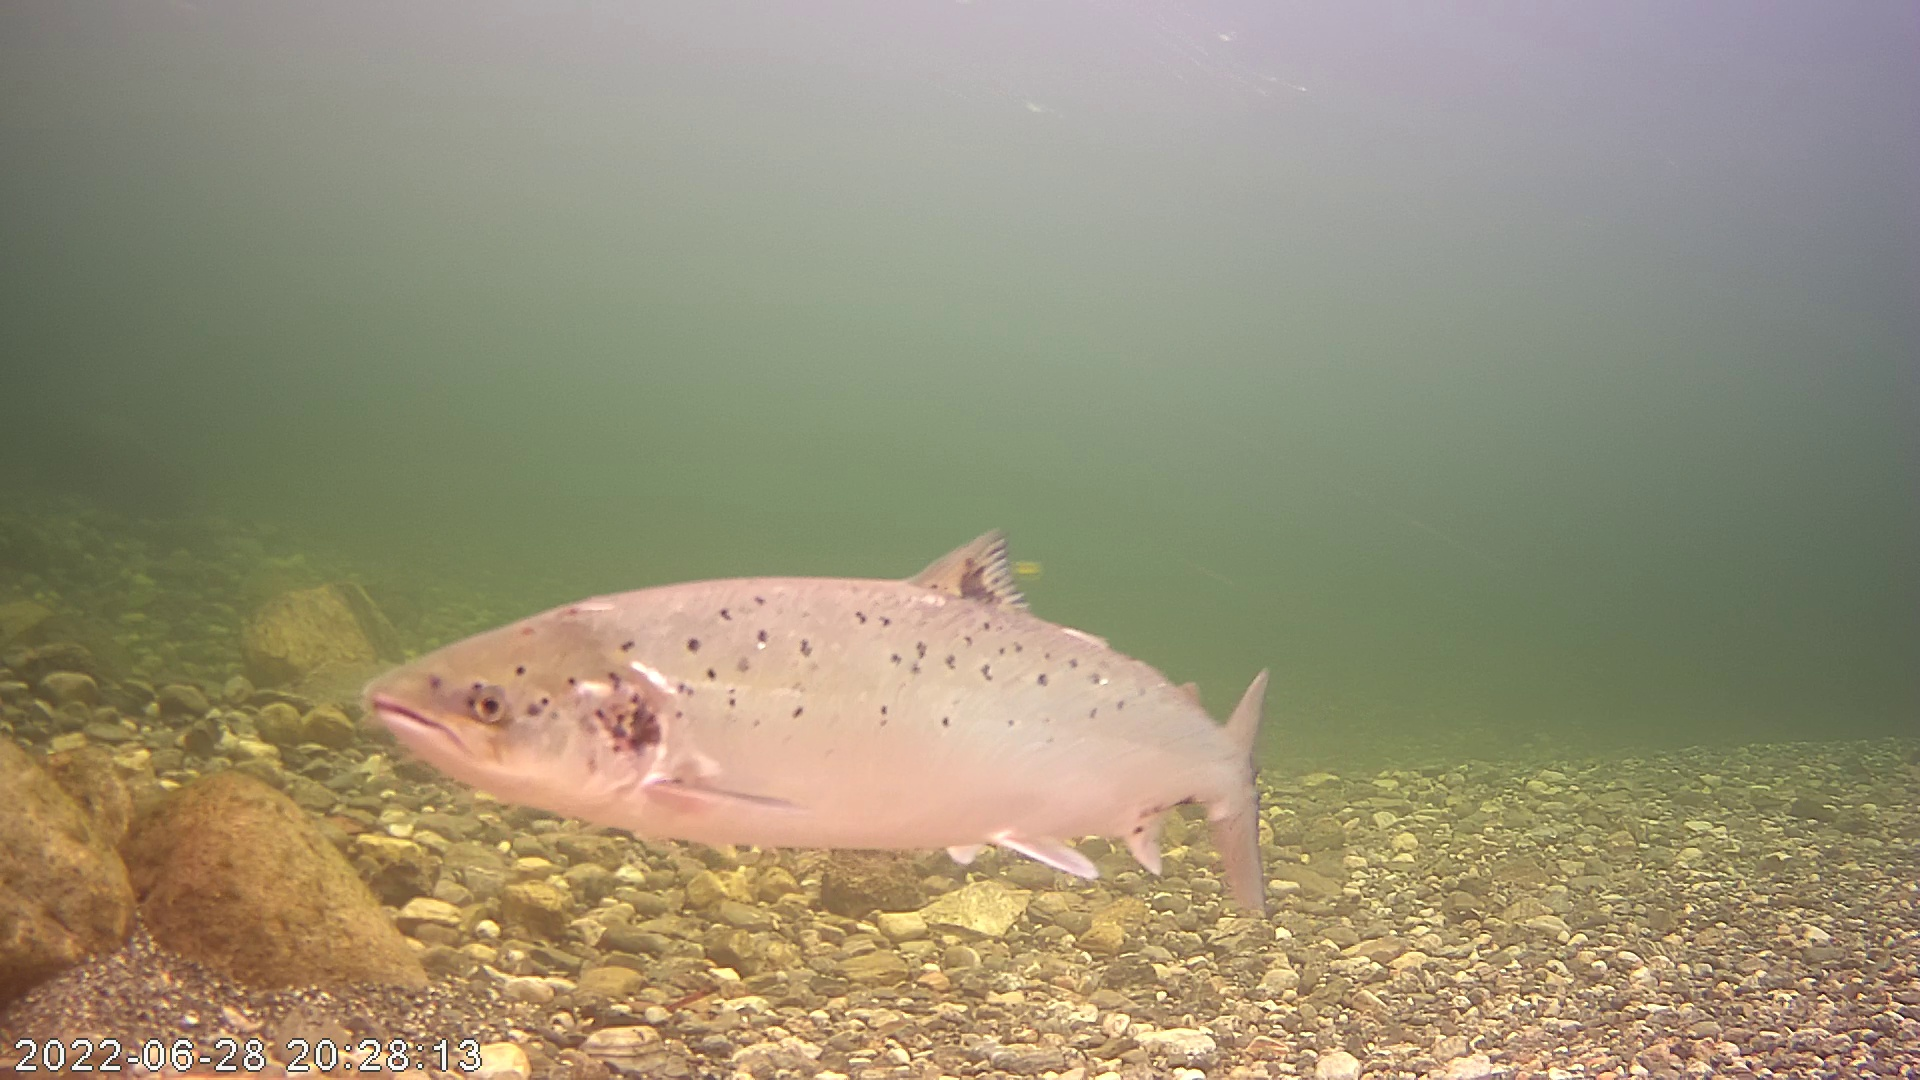salmon: (328, 501, 1287, 873)
